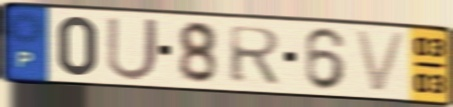0: (55, 15, 100, 79)
6: (302, 25, 350, 93)
8: (176, 19, 220, 86)
R: (226, 24, 285, 86)
U: (104, 15, 162, 84)
V: (351, 27, 412, 95)
